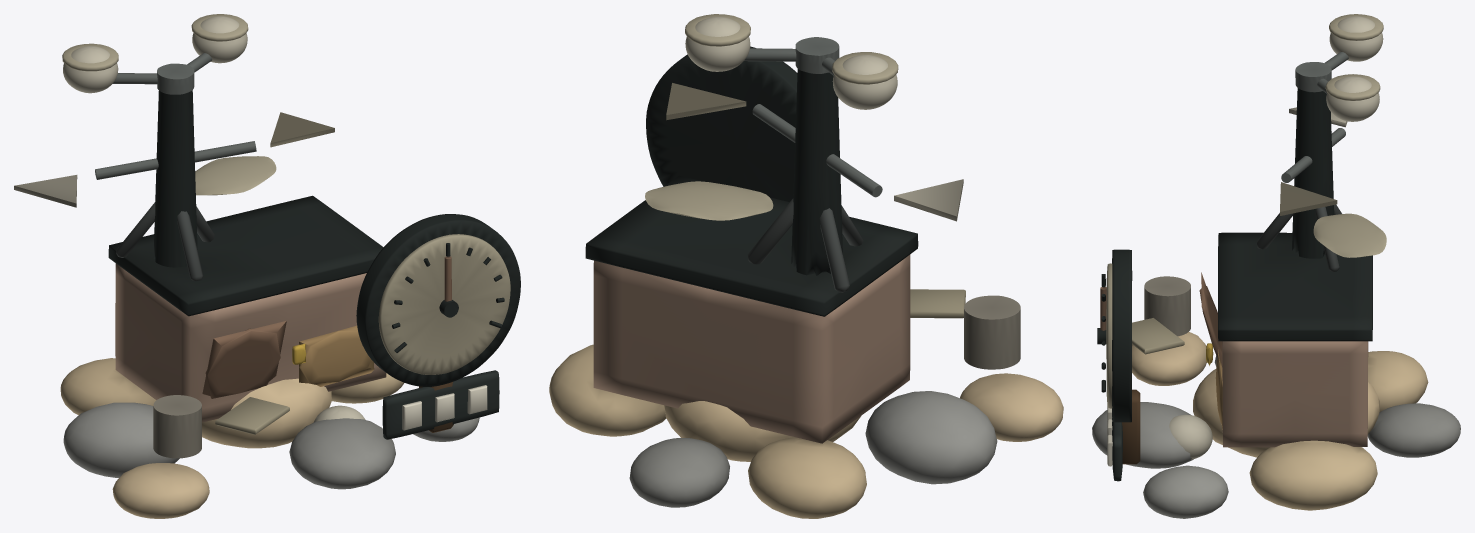
File: storm_station_b.glb
The picture shows the model from 3 angles, left to right: view 1: azimuth 30°, elevation 25°; view 2: azimuth 150°, elevation 25°; view 3: azimuth 270°, elevation 25°; orthographic projection. The views are drawn at different scales.
Parts seen in each view (by area): view 1: Surface; view 2: Surface; view 3: Surface.
Part boxes in pixels (x1,y1,x2,y2): Surface: (14, 14, 520, 518); Surface: (549, 14, 1063, 518); Surface: (1092, 14, 1460, 518).
Size of the model in its own units: 4.66 by 4.52 by 4.04.
